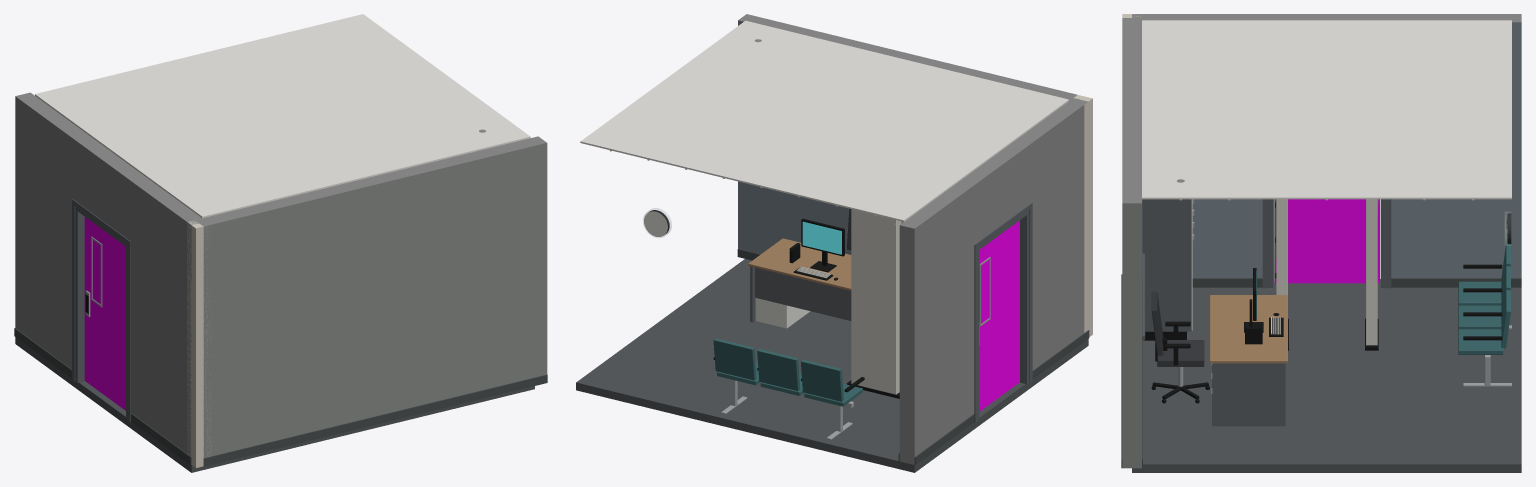
The model's file is ENV_VisitorScreening.glb.
3 renders of one model, left to right at view 1: azimuth 30°, elevation 25°; view 2: azimuth 150°, elevation 25°; view 3: azimuth 270°, elevation 25°, orthographic. The views are drawn at different scales.
Parts seen in each view (by area): view 1: ENV_VisitorScreening_Architecture, ENV_VisitorScreening_Ceiling, DOOR_Secure_Single_1200_Leaf_COL-colonly.006, ENV_VisitorScreening_Posts, DOOR_Secure_Single_1200_Frame.006; view 2: ENV_VisitorScreening_Architecture, ENV_VisitorScreening_Ceiling, PROP_Detector_WalkThrough_Mesh, PROP_Desk_Clinical_Mesh, DOOR_Secure_Single_1200_Leaf_COL-colonly.006, PROP_Seating_Waiting_3_Mesh, DOOR_Secure_Single_1200_Frame.006, ENV_VisitorScreening_Posts, PROP_Terminal_EHR_Mesh, PROP_Terminal_EHR_Screen, PROP_Clock_Wall_Caged_Mesh.001; view 3: ENV_VisitorScreening_Architecture, ENV_VisitorScreening_Ceiling, PROP_Desk_Clinical_Mesh, DOOR_Secure_Single_1200_Leaf_COL-colonly.006, PROP_Lockers_Staff_4_Mesh, PROP_Seating_Waiting_3_Mesh, PROP_Detector_WalkThrough_Mesh, PROP_Chair_Office_Mesh, DOOR_Secure_Single_1200_Frame.006, PROP_Terminal_EHR_Mesh.
Boxes of the visible parts, left/top/right/bottom form: ENV_VisitorScreening_Architecture: left=14, top=92, right=547, bottom=472; ENV_VisitorScreening_Ceiling: left=35, top=14, right=530, bottom=218; DOOR_Secure_Single_1200_Leaf_COL-colonly.006: left=84, top=217, right=125, bottom=410; ENV_VisitorScreening_Posts: left=187, top=221, right=211, bottom=467; DOOR_Secure_Single_1200_Frame.006: left=72, top=199, right=130, bottom=422; ENV_VisitorScreening_Architecture: left=576, top=14, right=1089, bottom=472; ENV_VisitorScreening_Ceiling: left=580, top=20, right=1068, bottom=221; PROP_Detector_WalkThrough_Mesh: left=847, top=209, right=903, bottom=398; PROP_Desk_Clinical_Mesh: left=748, top=238, right=851, bottom=328; DOOR_Secure_Single_1200_Leaf_COL-colonly.006: left=979, top=220, right=1019, bottom=411; PROP_Seating_Waiting_3_Mesh: left=713, top=338, right=864, bottom=440; DOOR_Secure_Single_1200_Frame.006: left=974, top=203, right=1032, bottom=422; ENV_VisitorScreening_Posts: left=1074, top=95, right=1092, bottom=336; PROP_Terminal_EHR_Mesh: left=789, top=218, right=844, bottom=280; PROP_Terminal_EHR_Screen: left=802, top=221, right=841, bottom=254; PROP_Clock_Wall_Caged_Mesh.001: left=643, top=208, right=671, bottom=237; ENV_VisitorScreening_Architecture: left=1121, top=14, right=1521, bottom=472; ENV_VisitorScreening_Ceiling: left=1142, top=20, right=1511, bottom=200; PROP_Desk_Clinical_Mesh: left=1210, top=295, right=1287, bottom=426; DOOR_Secure_Single_1200_Leaf_COL-colonly.006: left=1274, top=199, right=1379, bottom=283; PROP_Lockers_Staff_4_Mesh: left=1142, top=199, right=1194, bottom=340; PROP_Seating_Waiting_3_Mesh: left=1458, top=242, right=1511, bottom=386; PROP_Detector_WalkThrough_Mesh: left=1275, top=199, right=1378, bottom=350; PROP_Chair_Office_Mesh: left=1151, top=291, right=1209, bottom=403; DOOR_Secure_Single_1200_Frame.006: left=1262, top=199, right=1391, bottom=288; PROP_Terminal_EHR_Mesh: left=1244, top=268, right=1283, bottom=344.
Size of what is drawn, in the model's own units: 4.63 by 3.13 by 4.11.
